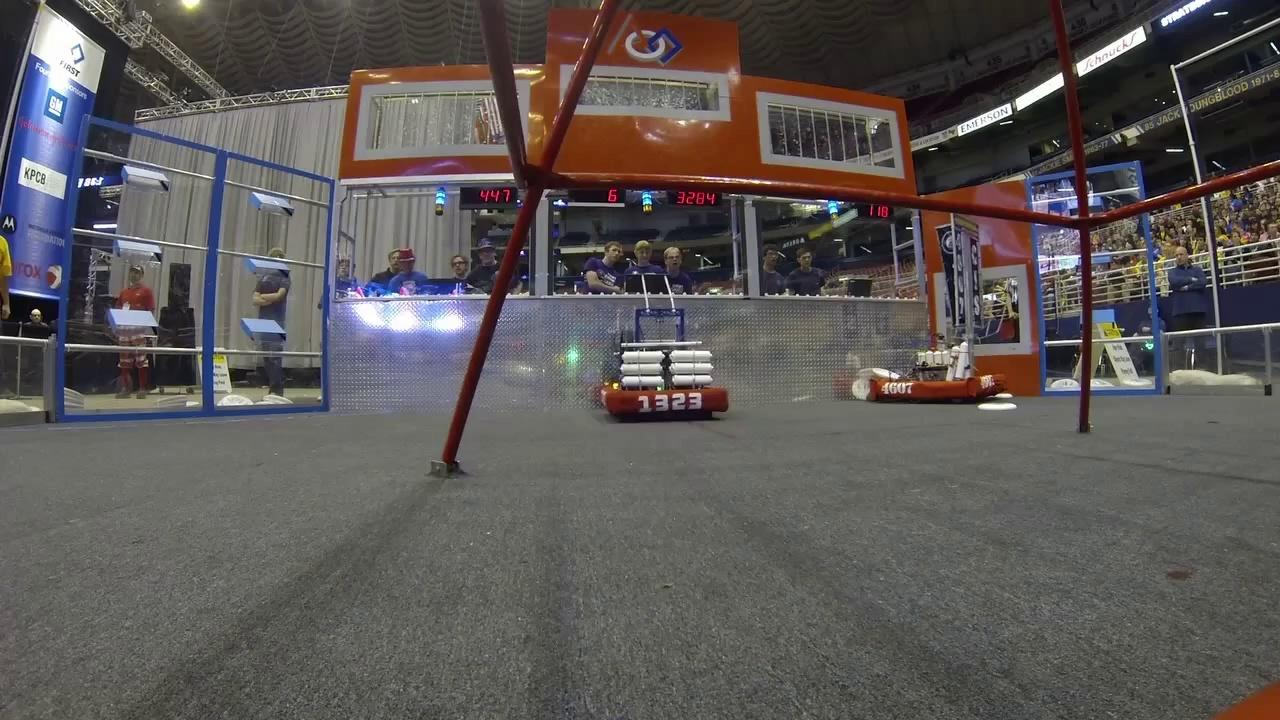robot: (869, 211, 1008, 406), (592, 300, 729, 422)
